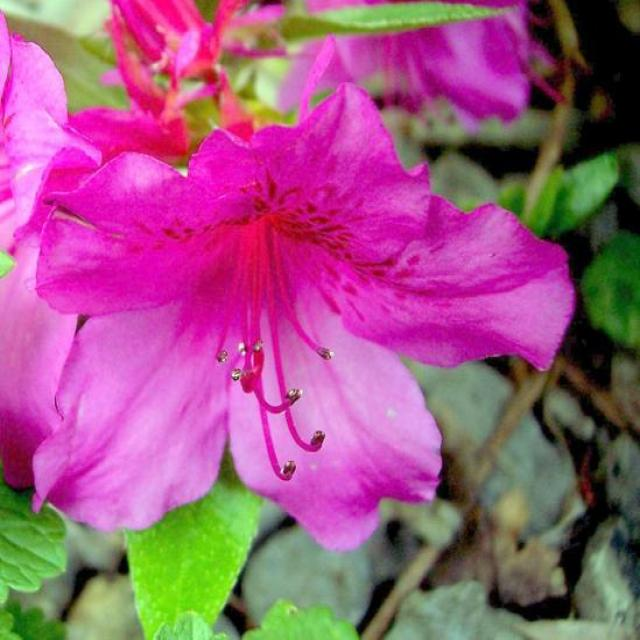azalea: (18, 118, 591, 582)
